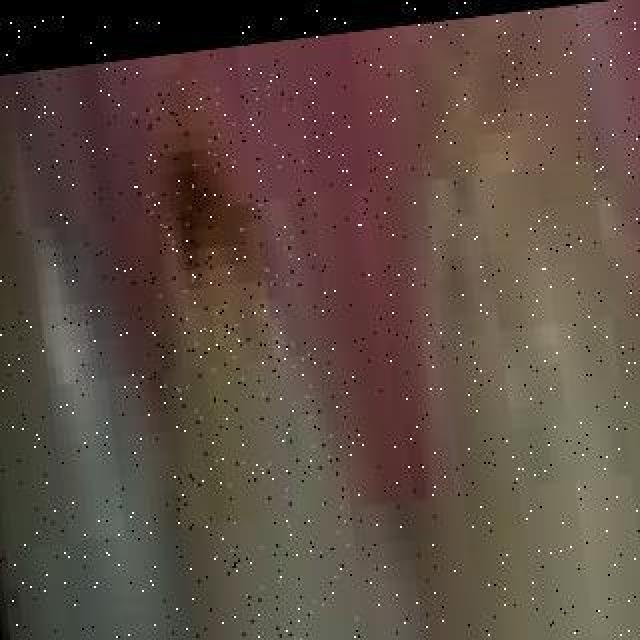cavities: (100, 126, 294, 344)
